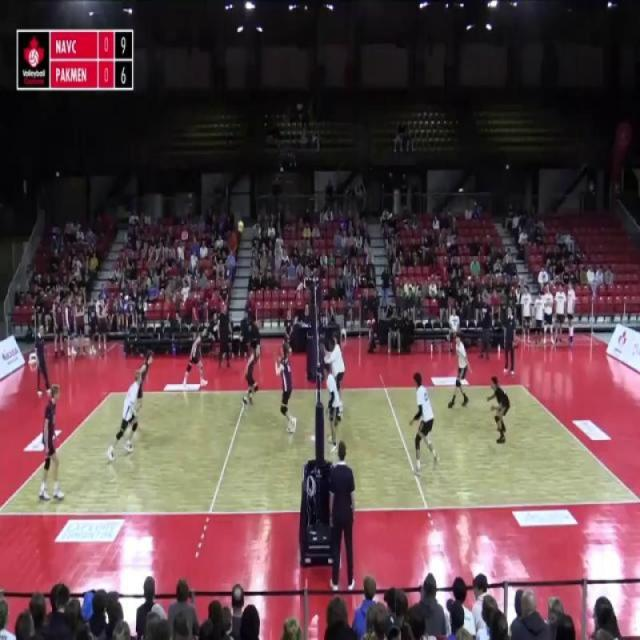volleyball: (237, 220, 244, 234)
